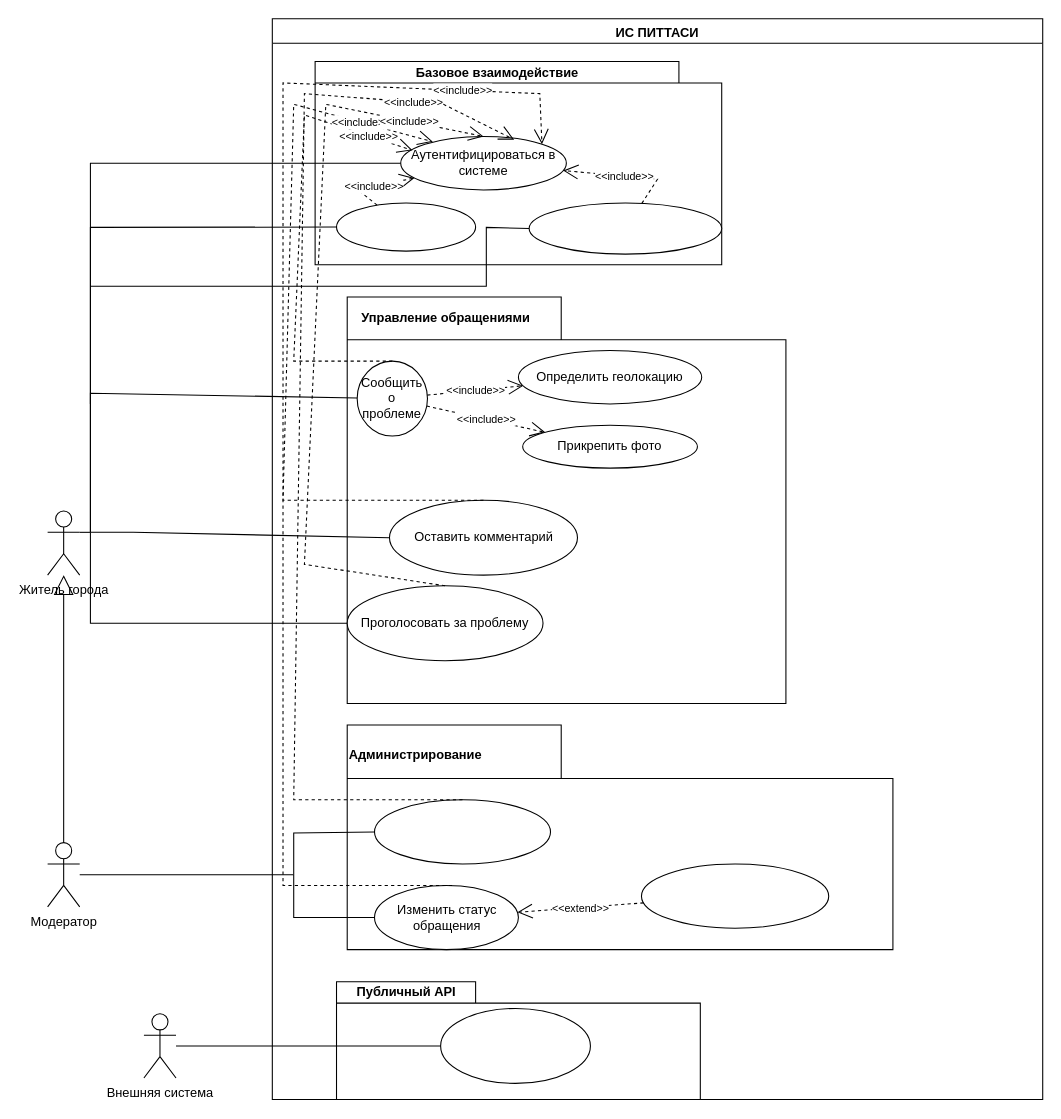
This 1061x1119 diagram has some shape labels left out. Each missing label, with the centre of its shape:
"Добавить официальный комментарий" goes at pixel 734 895.
"Получить данные через API" goes at pixel 515 1045.
"Просмотреть детали проблемы" goes at pixel 625 228.
"Просмотреть карту проблем" goes at pixel 405 226.
"Фильтровать обращения" goes at pixel 462 831.
